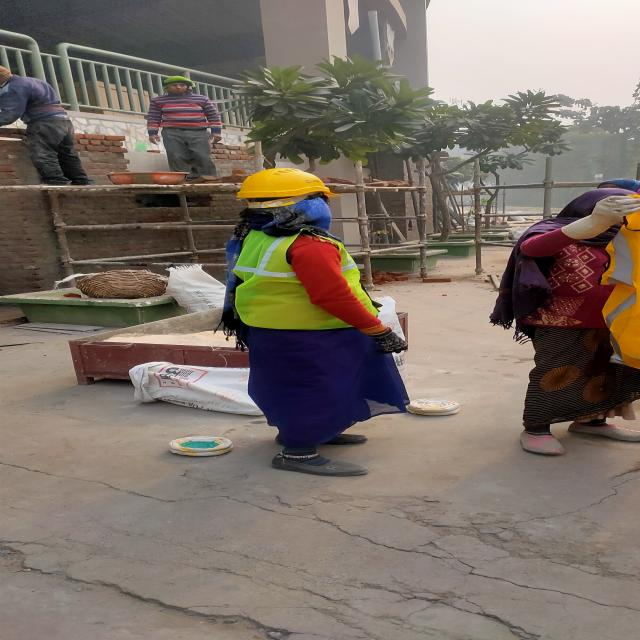safe: (232, 168, 404, 474)
unsafe: (505, 187, 640, 454), (0, 65, 90, 186), (148, 76, 222, 182)
